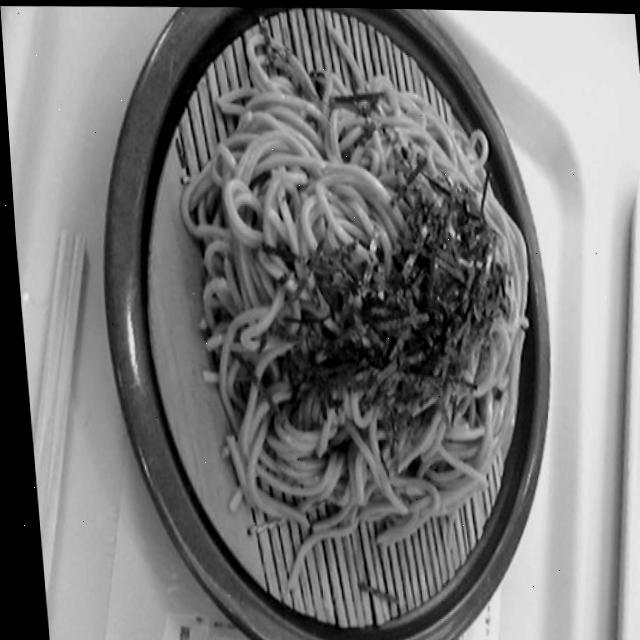面条主食: (77, 1, 571, 640)
